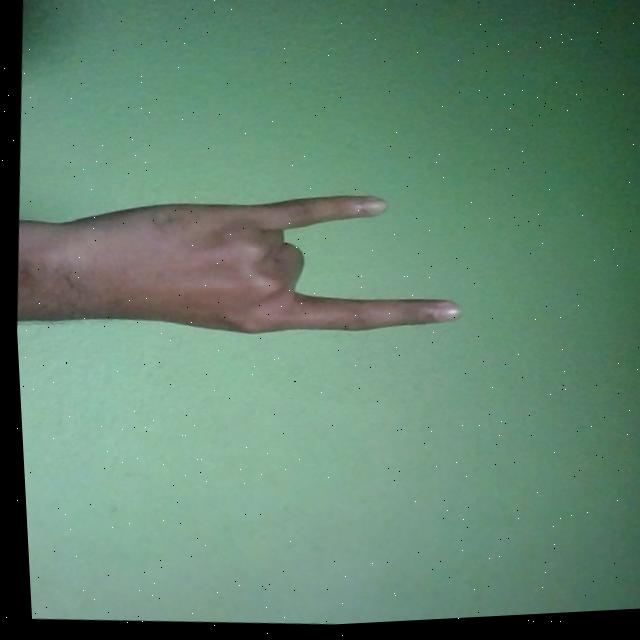Rock On: (16, 174, 466, 361)
